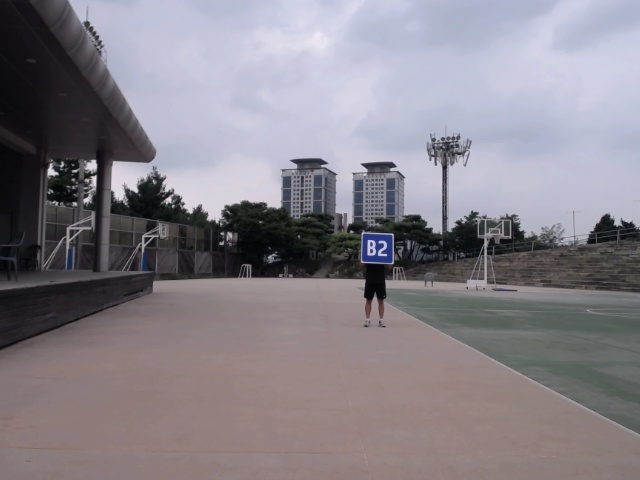delivery_b2: (360, 232, 395, 265)
